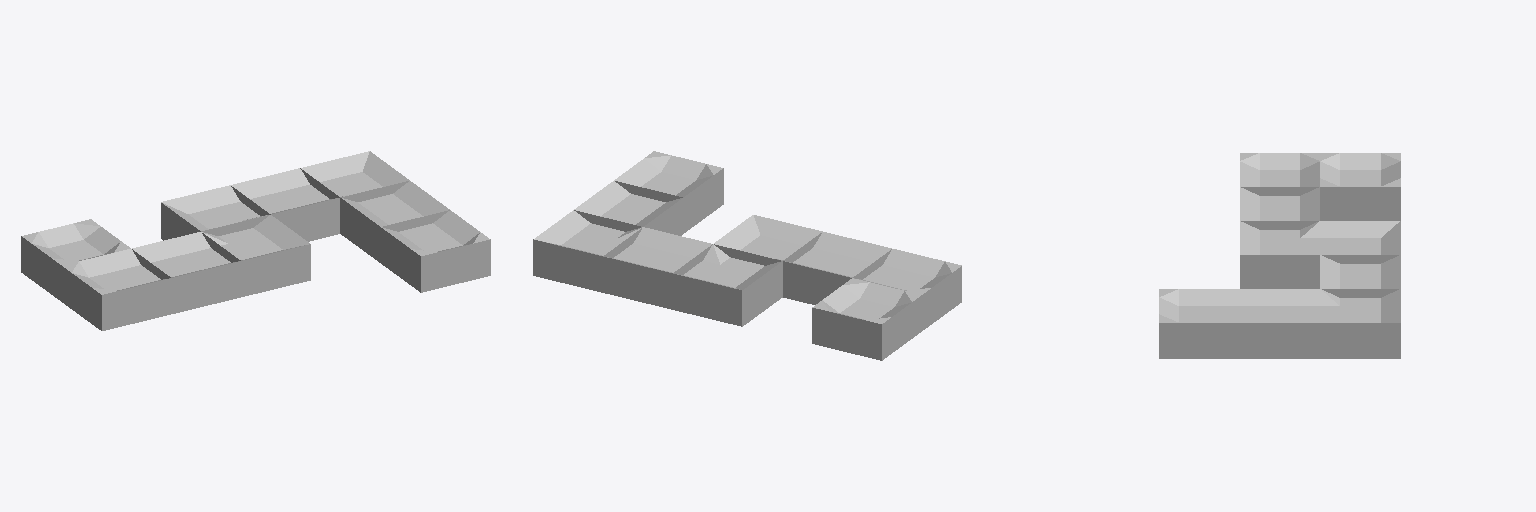
The model's file is 57f_path.obj.
The picture shows the model from 3 angles: view 1: azimuth 30°, elevation 25°; view 2: azimuth 150°, elevation 25°; view 3: azimuth 270°, elevation 25°; orthographic projection.
Parts seen in each view (by area): view 1: foil.ending.0.2_ending.527, foil.ending.4.1_ending.528, foil.through.1.2_through.277, foil.corner.2.2_corner.1303, foil.through.3.3_through.278, foil.through.4.2_through.279, foil.hole.0.3_Cube.265, foil.corner.2.3_corner.1304, foil.corner.4.3_corner.1305; view 2: foil.hole.0.3_Cube.265, foil.corner.2.3_corner.1304, foil.through.3.3_through.278, foil.corner.4.3_corner.1305, foil.through.1.2_through.277, foil.ending.4.1_ending.528, foil.through.4.2_through.279, foil.ending.0.2_ending.527, foil.corner.2.2_corner.1303; view 3: foil.ending.4.1_ending.528, foil.through.4.2_through.279, foil.hole.0.3_Cube.265, foil.corner.4.3_corner.1305, foil.corner.2.2_corner.1303, foil.through.1.2_through.277, foil.through.3.3_through.278, foil.corner.2.3_corner.1304, foil.ending.0.2_ending.527.
Boxes of the visible parts, box(x1,y1,x2,y2) form: foil.ending.0.2_ending.527: box(62, 249, 171, 330); foil.ending.4.1_ending.528: box(381, 210, 490, 292); foil.through.1.2_through.277: box(132, 232, 240, 313); foil.corner.2.2_corner.1303: box(202, 215, 310, 296); foil.through.3.3_through.278: box(231, 168, 339, 241); foil.through.4.2_through.279: box(340, 181, 449, 262); foil.hole.0.3_Cube.265: box(21, 219, 130, 301); foil.corner.2.3_corner.1304: box(161, 185, 266, 240); foil.corner.4.3_corner.1305: box(301, 151, 409, 198); foil.hole.0.3_Cube.265: box(812, 278, 921, 360); foil.corner.2.3_corner.1304: box(673, 244, 782, 326); foil.through.3.3_through.278: box(603, 227, 712, 309); foil.corner.4.3_corner.1305: box(533, 210, 642, 292); foil.through.1.2_through.277: box(783, 232, 891, 304); foil.ending.4.1_ending.528: box(614, 151, 723, 232); foil.through.4.2_through.279: box(574, 181, 683, 235); foil.ending.0.2_ending.527: box(854, 249, 961, 330); foil.corner.2.2_corner.1303: box(714, 215, 822, 265); foil.ending.4.1_ending.528: box(1159, 289, 1239, 358); foil.through.4.2_through.279: box(1240, 289, 1319, 358); foil.hole.0.3_Cube.265: box(1320, 153, 1400, 220); foil.corner.4.3_corner.1305: box(1320, 289, 1400, 358); foil.corner.2.2_corner.1303: box(1240, 221, 1319, 288); foil.through.1.2_through.277: box(1240, 187, 1319, 229); foil.through.3.3_through.278: box(1320, 255, 1400, 297); foil.corner.2.3_corner.1304: box(1320, 221, 1400, 254); foil.ending.0.2_ending.527: box(1240, 153, 1319, 186).
Bounding box in the file's own units: 10 × 1 × 6.